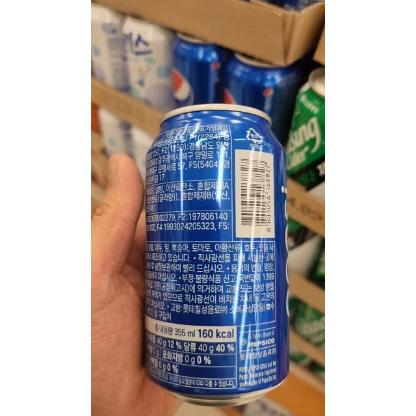Can: (146, 104, 292, 408)
